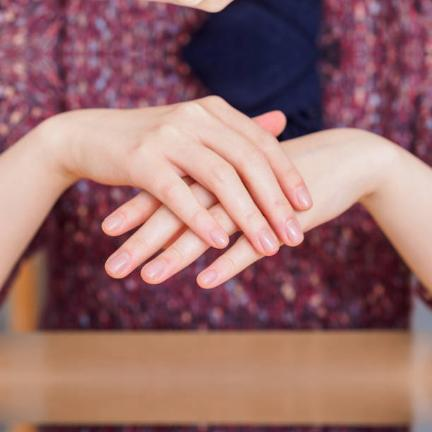Nail: (105, 252, 132, 276), (142, 257, 168, 281), (207, 227, 230, 249), (259, 230, 280, 254), (102, 213, 127, 233), (284, 219, 303, 245), (295, 187, 314, 208), (198, 269, 219, 286)
